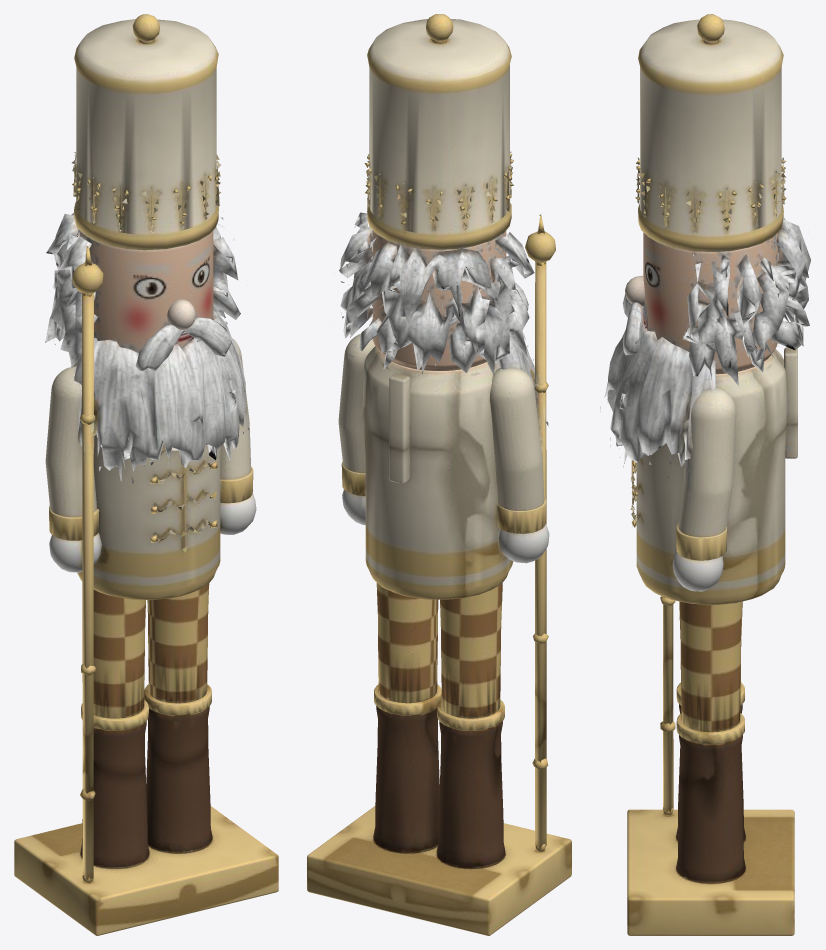
The model's file is cascanueces_tambor.glb.
3 views of the same model, side by side, from view 1: azimuth 30°, elevation 25°; view 2: azimuth 150°, elevation 25°; view 3: azimuth 270°, elevation 25° (orthographic).
Visible parts, largest first — view 1: LOW_Cascanueces_Dorado.001; view 2: LOW_Cascanueces_Dorado.001; view 3: LOW_Cascanueces_Dorado.001.
Boxes of the visible parts, left/top/right/bottom form: LOW_Cascanueces_Dorado.001: left=14, top=14, right=278, bottom=935; LOW_Cascanueces_Dorado.001: left=307, top=14, right=571, bottom=935; LOW_Cascanueces_Dorado.001: left=600, top=14, right=810, bottom=935.
Size of the model in its own units: 0.1006 by 0.416 by 0.0911.
Materials: 1 (1 with a texture image).
